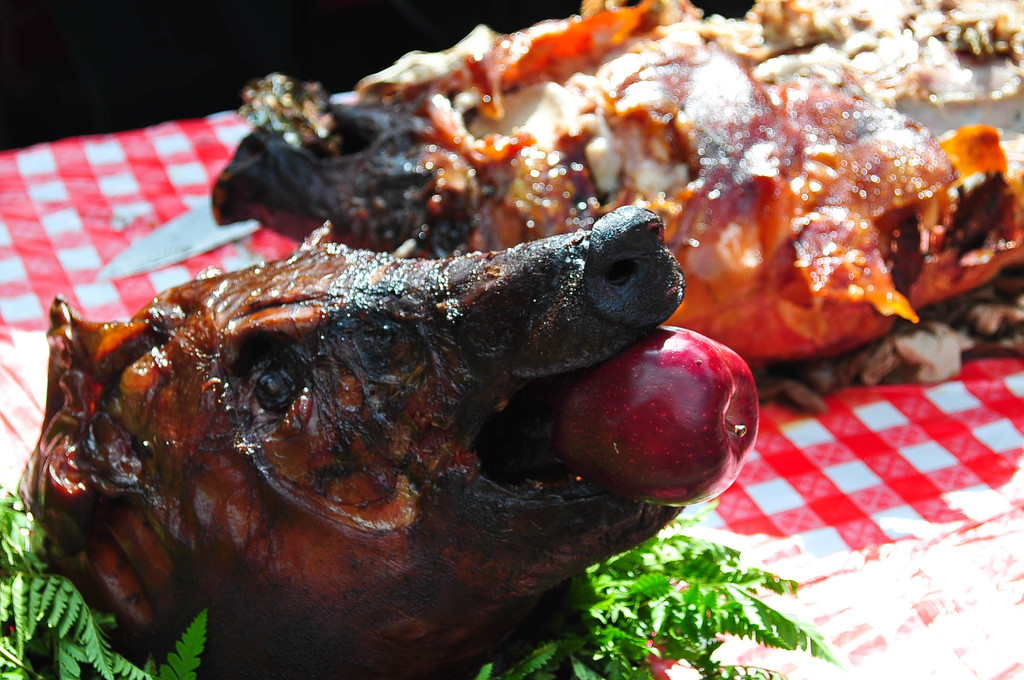Apple: (568, 322, 770, 523)
